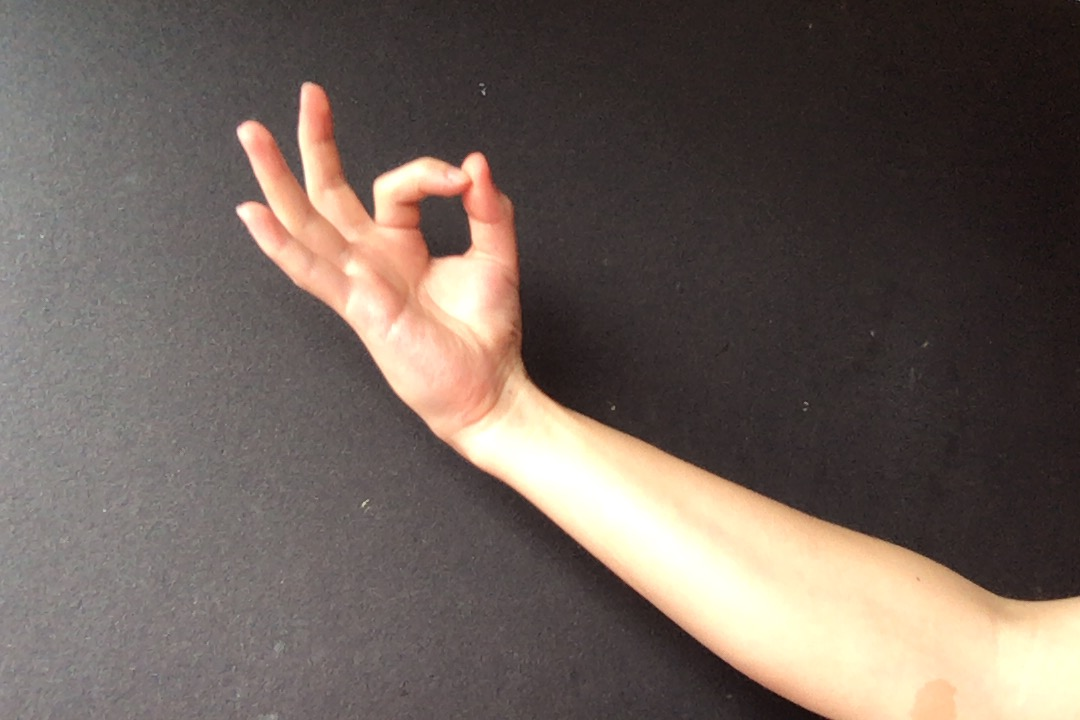oksign: (226, 78, 536, 416)
